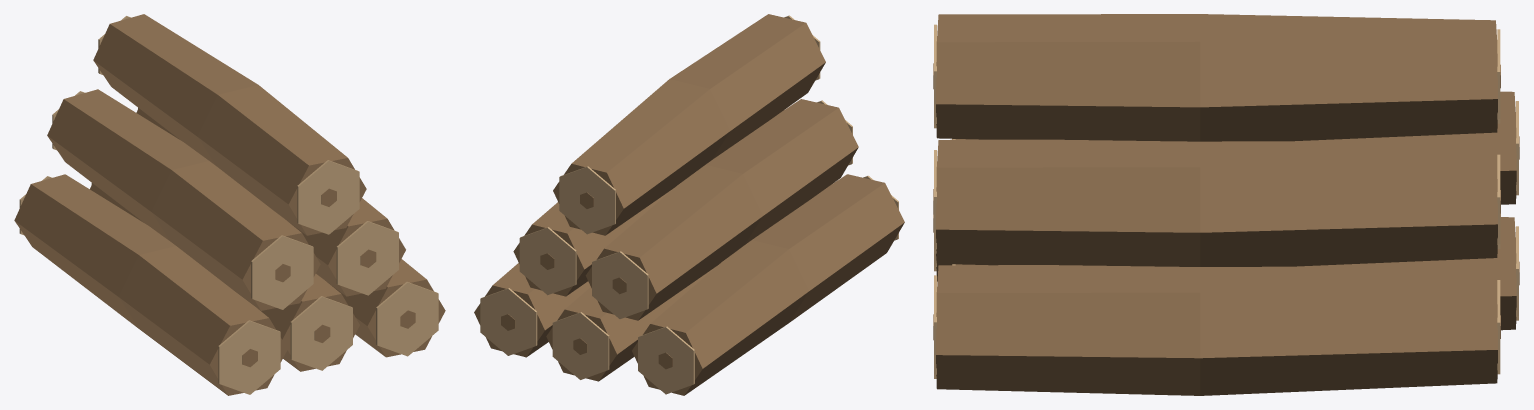
The model's file is log_pile_l.glb.
3 renders of one model, left to right at view 1: azimuth 30°, elevation 25°; view 2: azimuth 150°, elevation 25°; view 3: azimuth 270°, elevation 25°, orthographic. The views are drawn at different scales.
Visible parts, largest first — view 1: log_pile_l; view 2: log_pile_l; view 3: log_pile_l.
Boxes of the visible parts, box(x1,y1,x2,y2) form: log_pile_l: box(14, 14, 445, 395); log_pile_l: box(474, 14, 904, 395); log_pile_l: box(933, 14, 1519, 395).
Size of the model in its own units: 0.6279 by 0.534 by 0.944.
